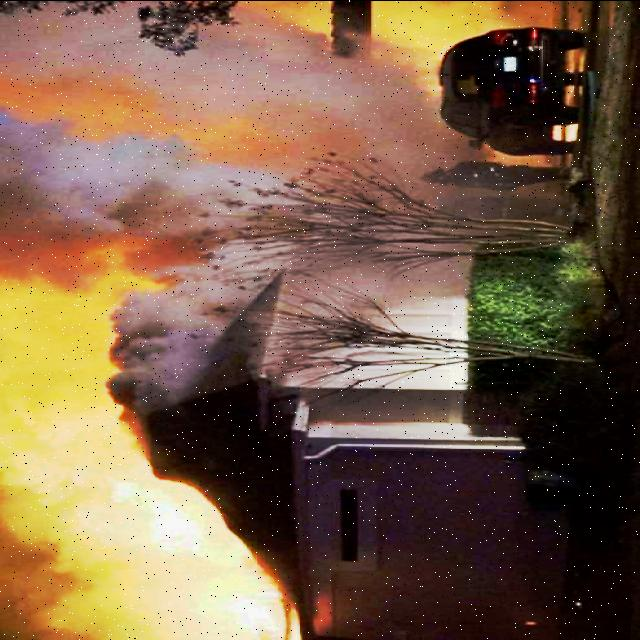api: (112, 480, 226, 561), (202, 572, 297, 640)
asap: (1, 2, 523, 224), (1, 109, 333, 424), (1, 308, 159, 588)
